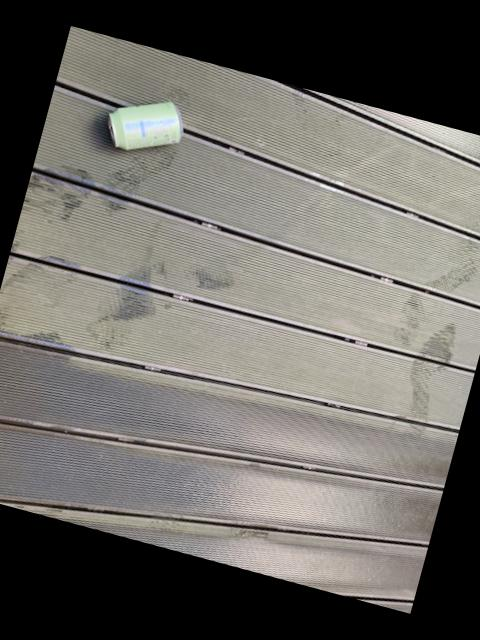metal: (108, 102, 181, 150)
